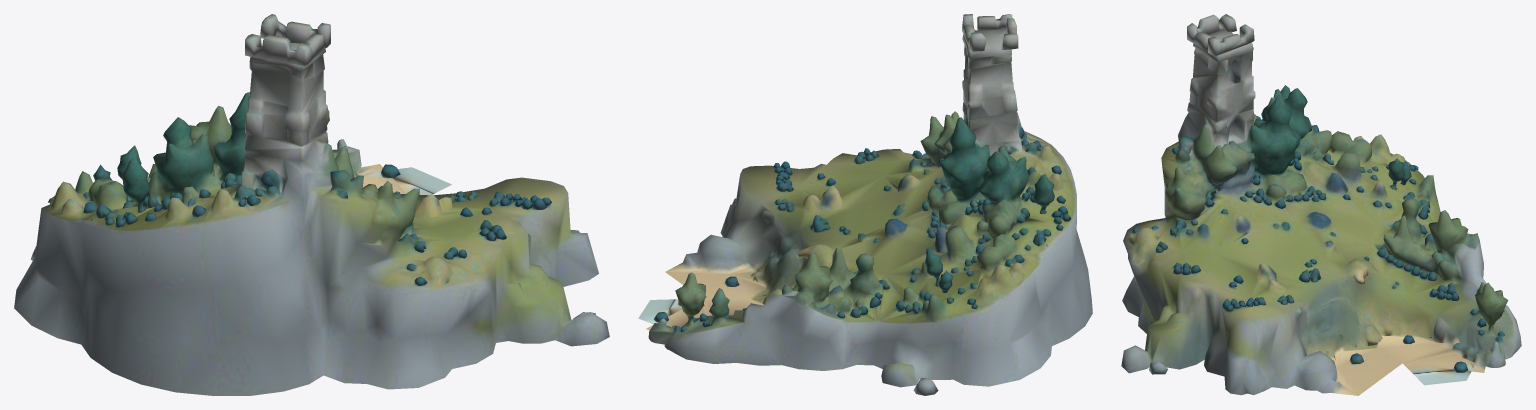
Rendered from isle_13.glb.
3 views of the same model, side by side, from view 1: azimuth 30°, elevation 25°; view 2: azimuth 150°, elevation 25°; view 3: azimuth 270°, elevation 25° (orthographic). The views are drawn at different scales.
Visible parts, largest first — view 1: tripo_node_a62eb696-8bb4-4016-801e-56024d1c9149; view 2: tripo_node_a62eb696-8bb4-4016-801e-56024d1c9149; view 3: tripo_node_a62eb696-8bb4-4016-801e-56024d1c9149.
Part boxes in pixels (x1,y1,x2,y2): tripo_node_a62eb696-8bb4-4016-801e-56024d1c9149: (14, 14, 609, 395); tripo_node_a62eb696-8bb4-4016-801e-56024d1c9149: (638, 14, 1092, 395); tripo_node_a62eb696-8bb4-4016-801e-56024d1c9149: (1121, 14, 1521, 395).
Bounding box in the file's own units: 44.81 × 29.21 × 42.18.
1 material, 1 textured.
